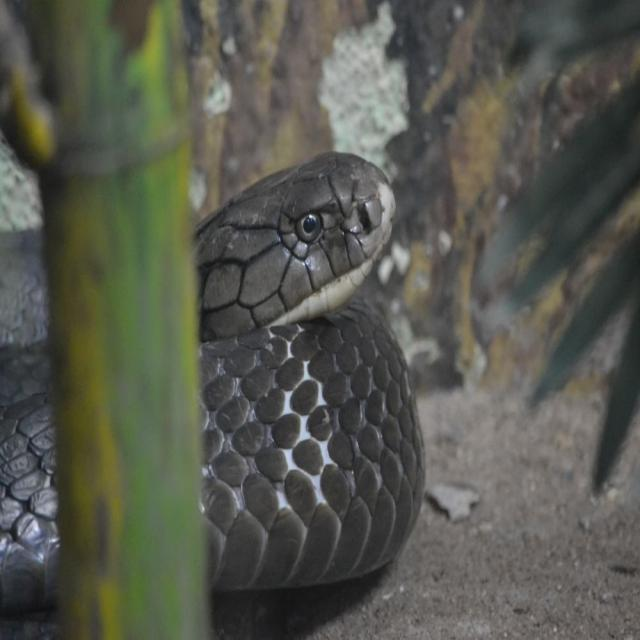Snake: (0, 147, 426, 626)
